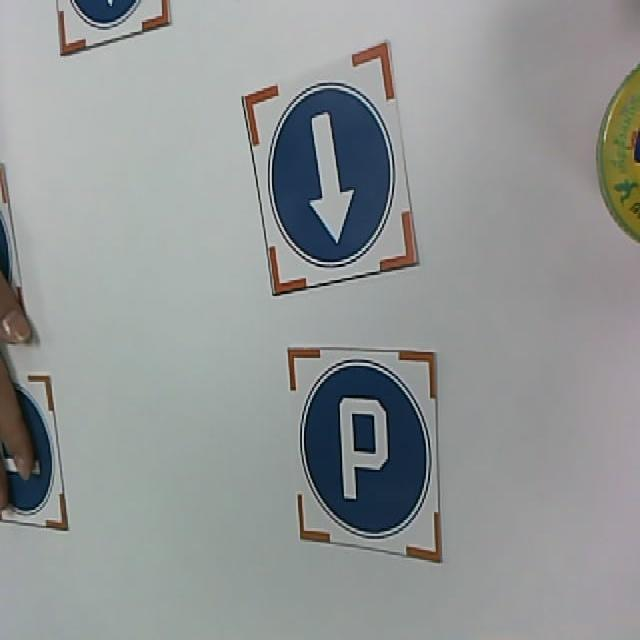parking: (301, 363, 432, 537)
straight: (270, 84, 395, 268)
